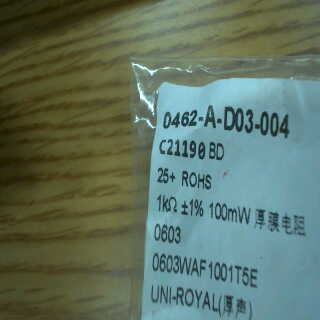1kR: (155, 191, 180, 216)
